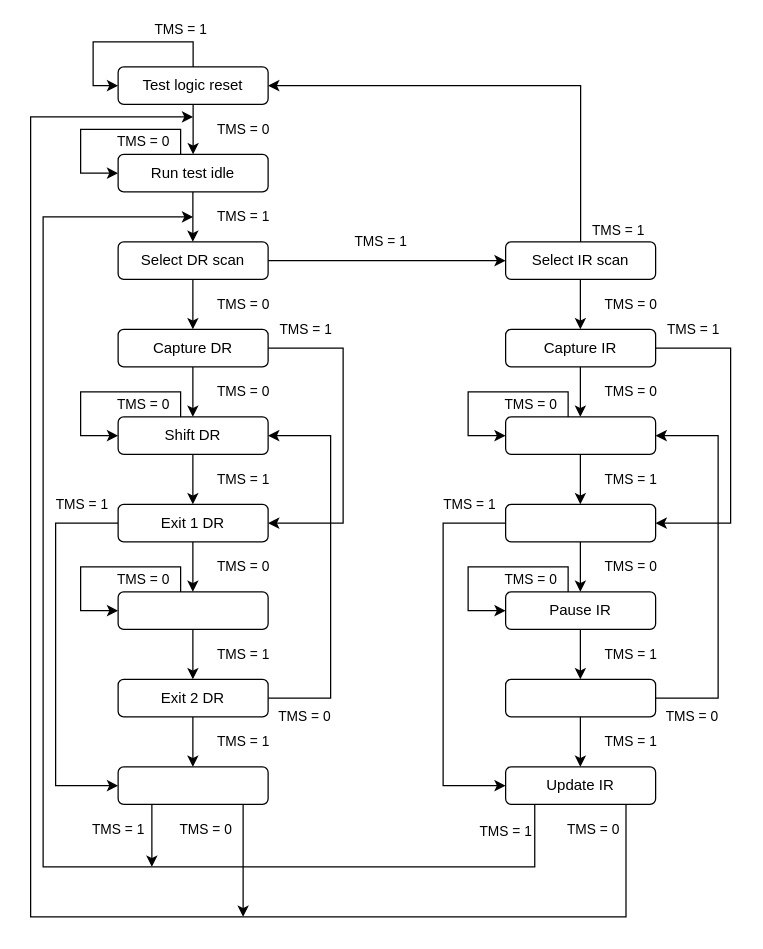
Image size: 763x949. Some labels were removed from this diagram. Here are the shapes that lost their labels. From the top down, the centre of each, then its label:
At point (580, 435): "Shift IR".
At point (580, 522): "Exit 1 IR".
At point (192, 610): "Pause DR".
At point (580, 697): "Exit 2 IR".
At point (192, 785): "Update DR".
